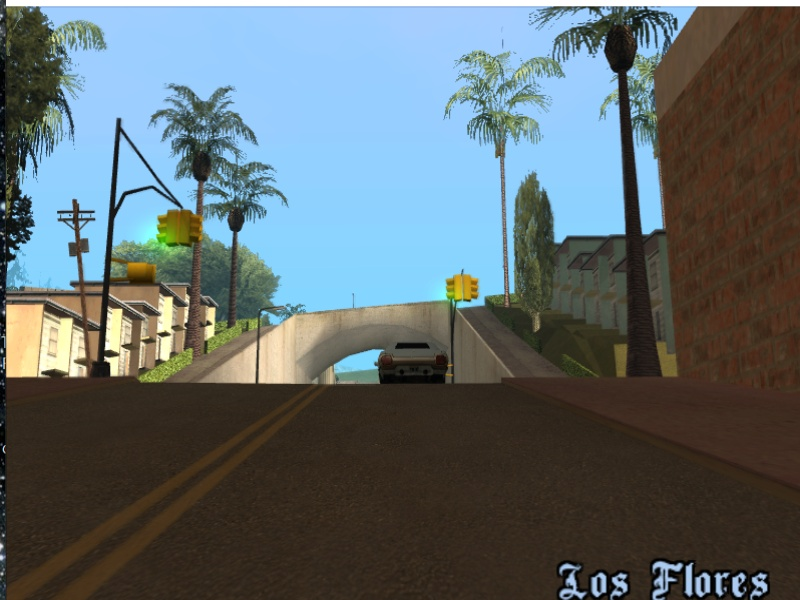pole: (97, 131, 113, 383), (255, 310, 261, 384)
tree: (617, 70, 666, 379)
vehicle: (373, 336, 451, 385)
